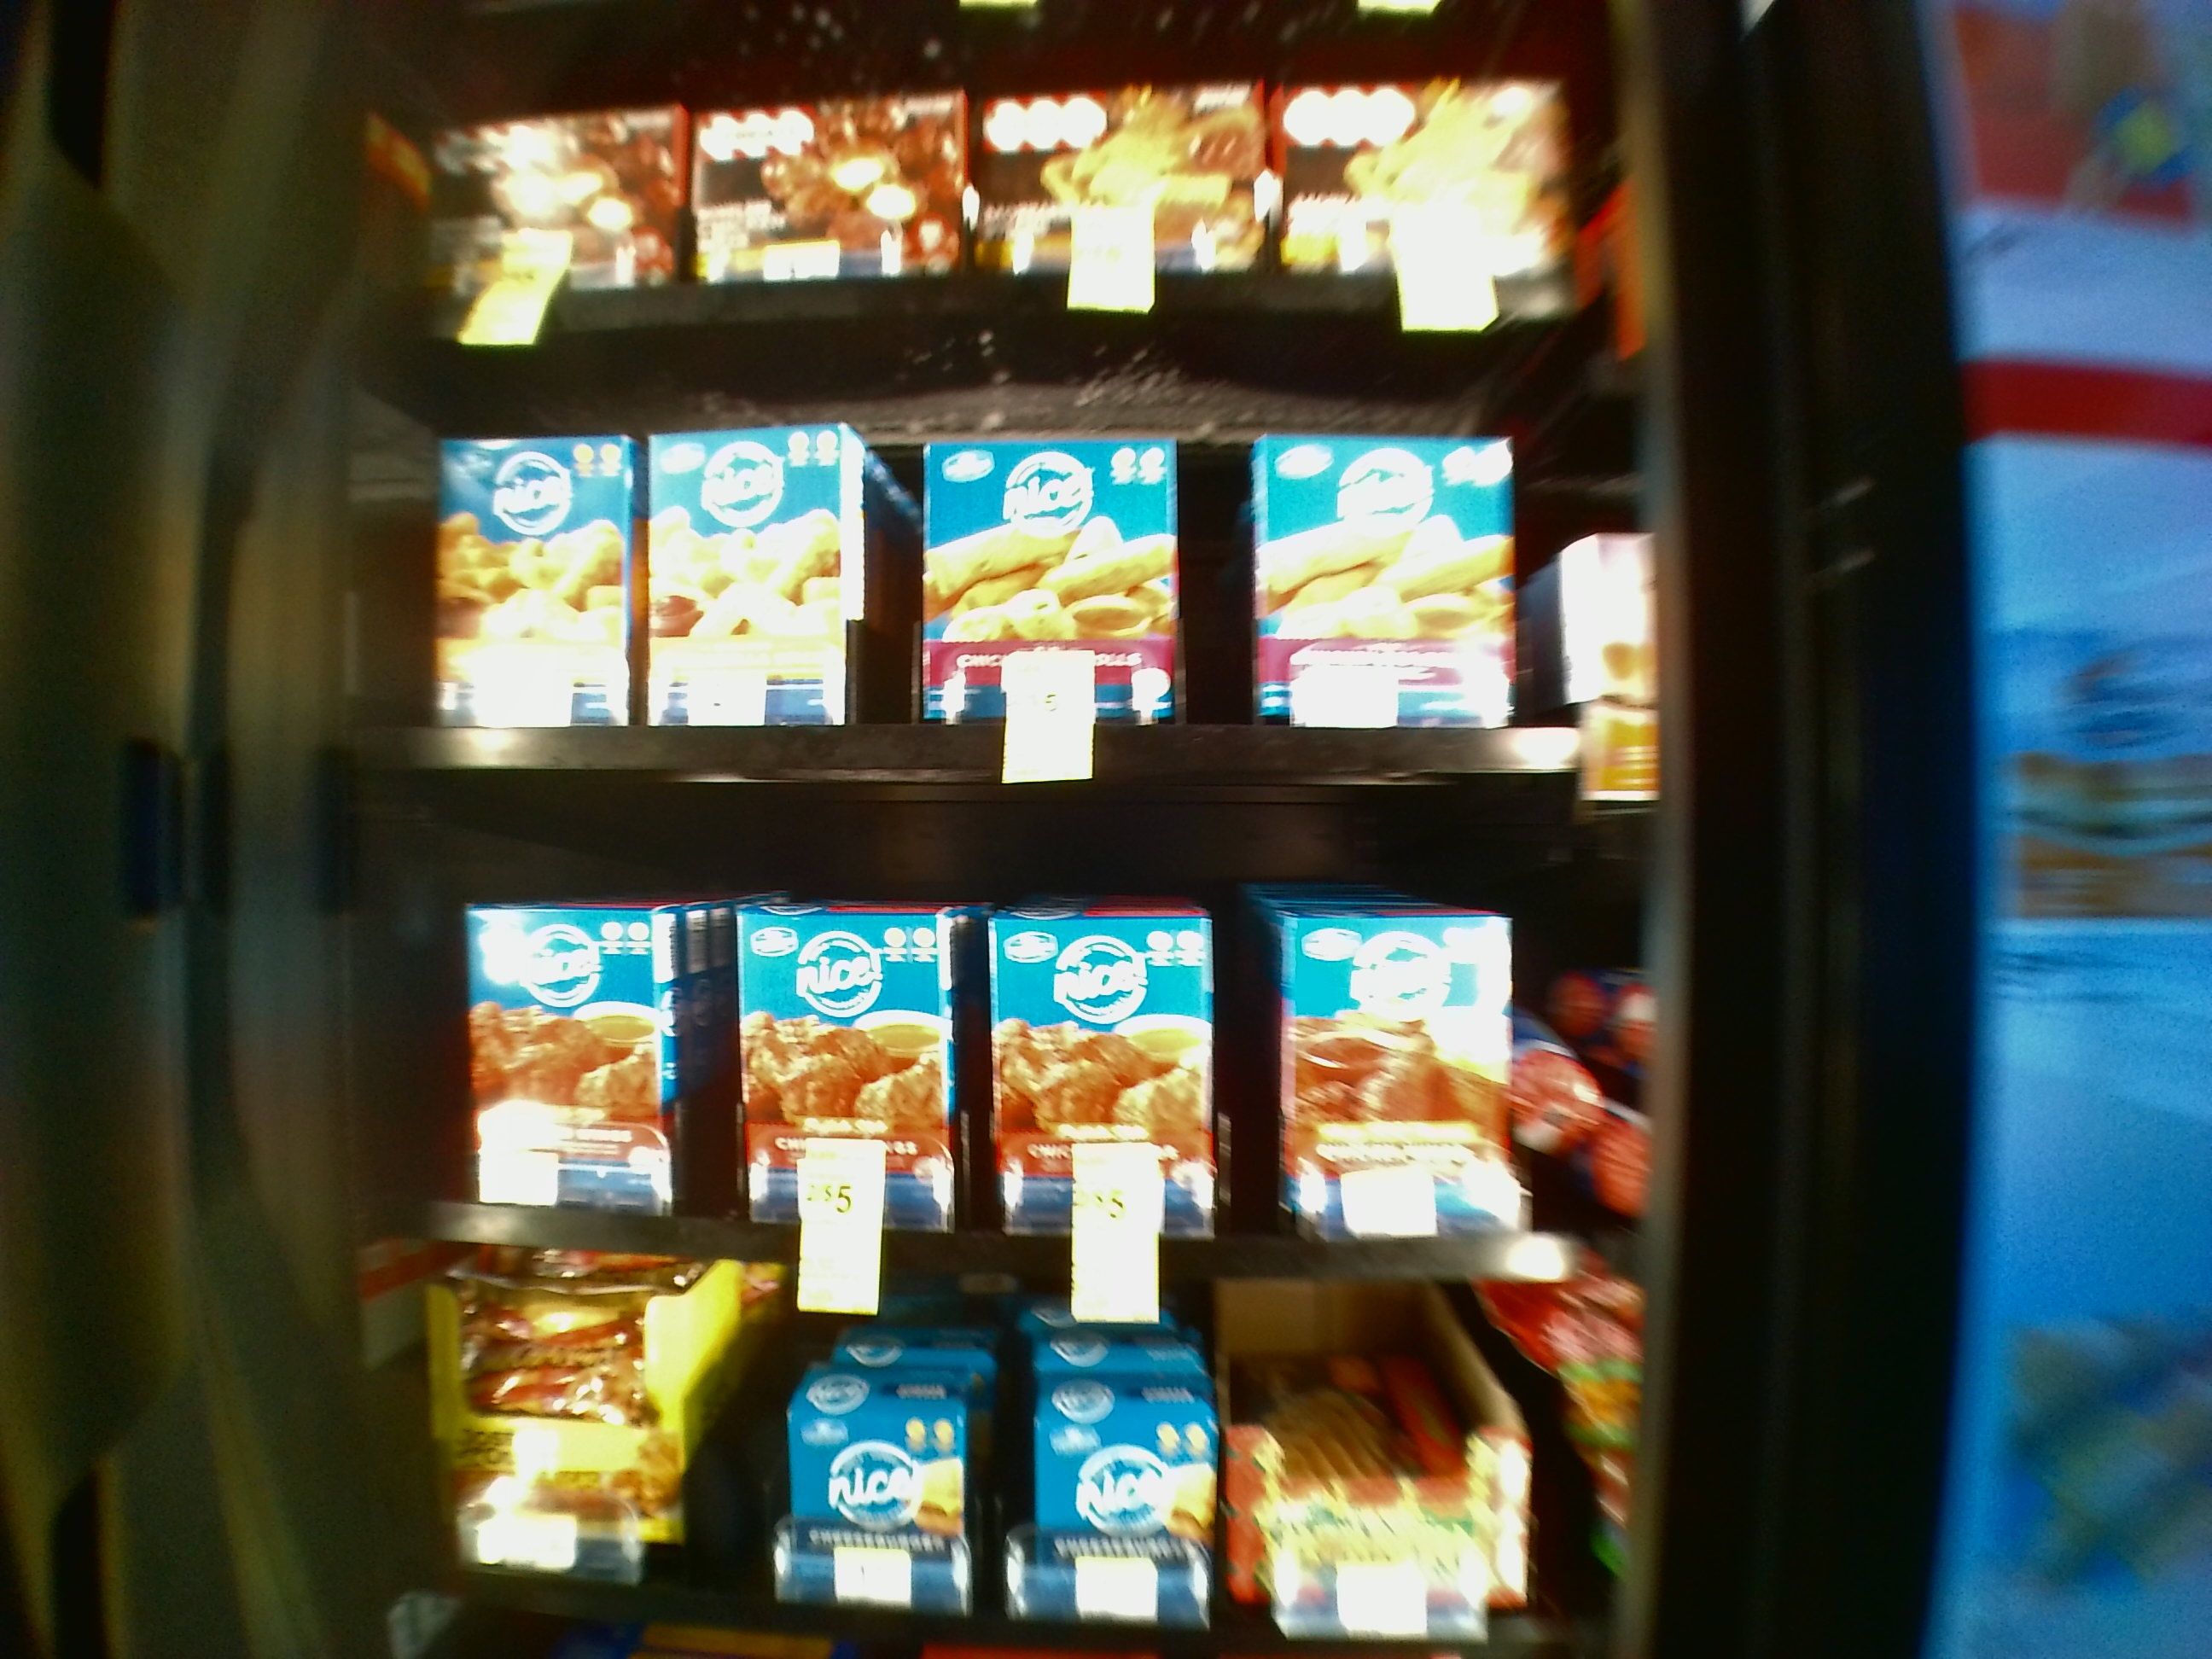shelf: (359, 793, 1644, 1297), (366, 347, 1651, 779)
